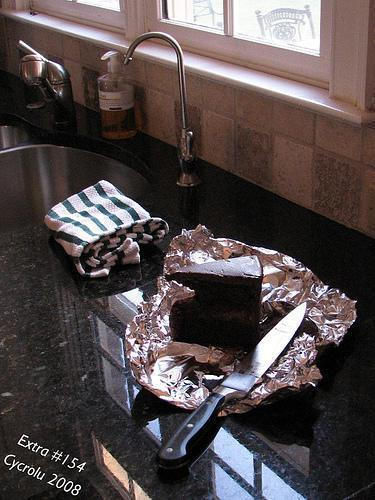Lavaplatos: (0, 26, 201, 249)
